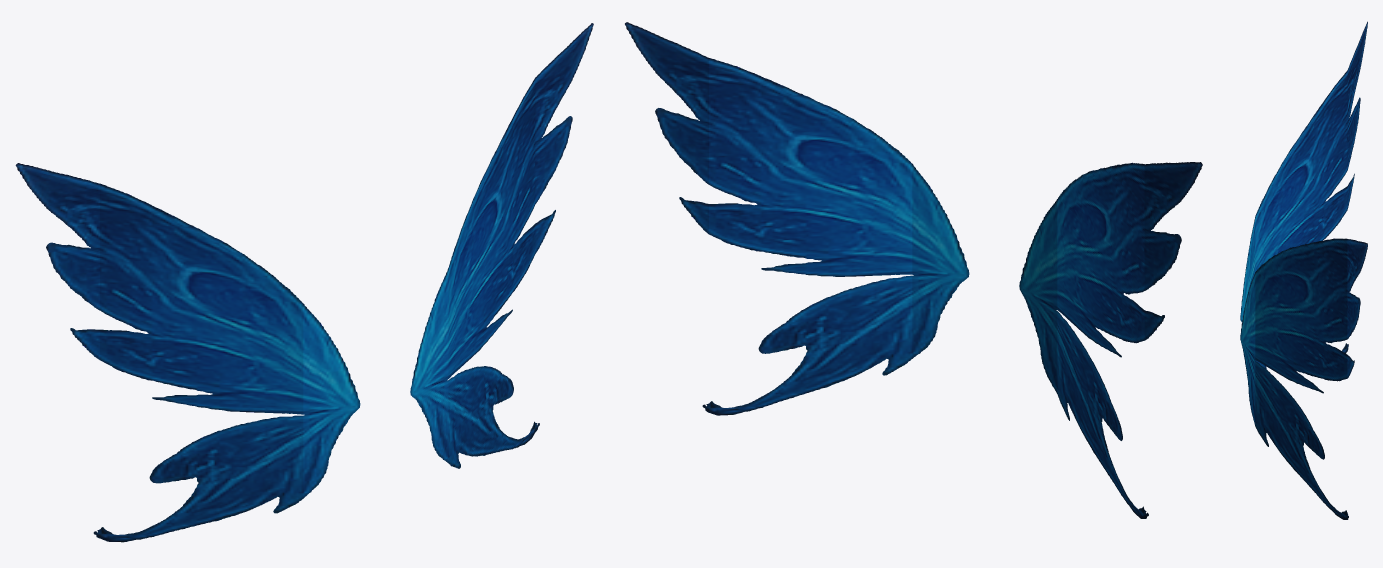
3 views of the same model, side by side, from view 1: azimuth 30°, elevation 25°; view 2: azimuth 150°, elevation 25°; view 3: azimuth 270°, elevation 25° (orthographic). The views are drawn at different scales.
Visible parts, largest first — view 1: lv3; view 2: lv3; view 3: lv3.
Part boxes in pixels (x1,y1,x2,y2): lv3: (15,23,593,542); lv3: (625,22,1202,518); lv3: (1240,21,1367,519).
Bounding box in the file's own units: 200 × 131 × 51.28.
